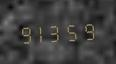five: (66, 19, 81, 42)
nine: (18, 22, 33, 45), (82, 18, 97, 41)
one: (34, 21, 49, 44)
three: (50, 20, 65, 43)
